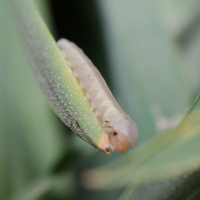insect: (57, 38, 137, 151)
